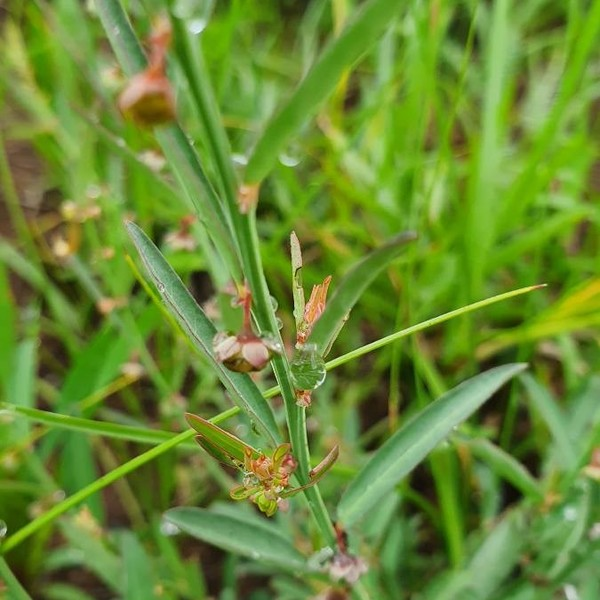obstacle: (67, 27, 462, 588)
